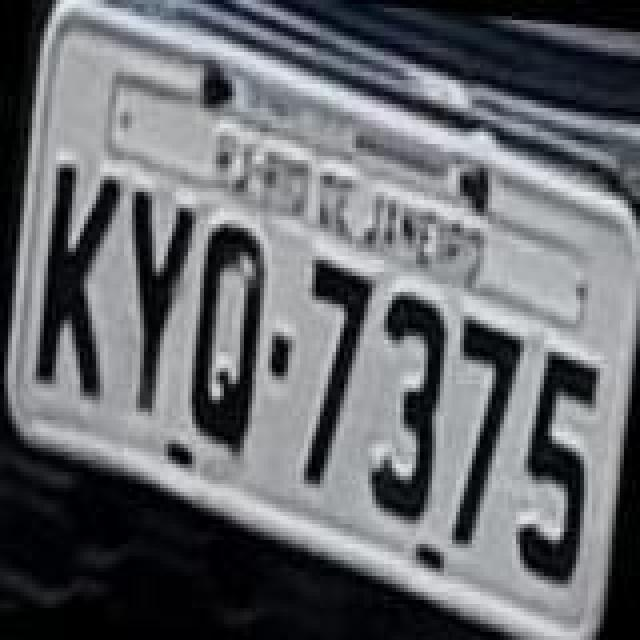3: (362, 290, 454, 526)
5: (510, 346, 602, 590)
7: (290, 258, 374, 494), (438, 314, 522, 550)
K: (30, 162, 122, 398)
Q: (178, 220, 270, 460)
Y: (106, 188, 198, 420)
